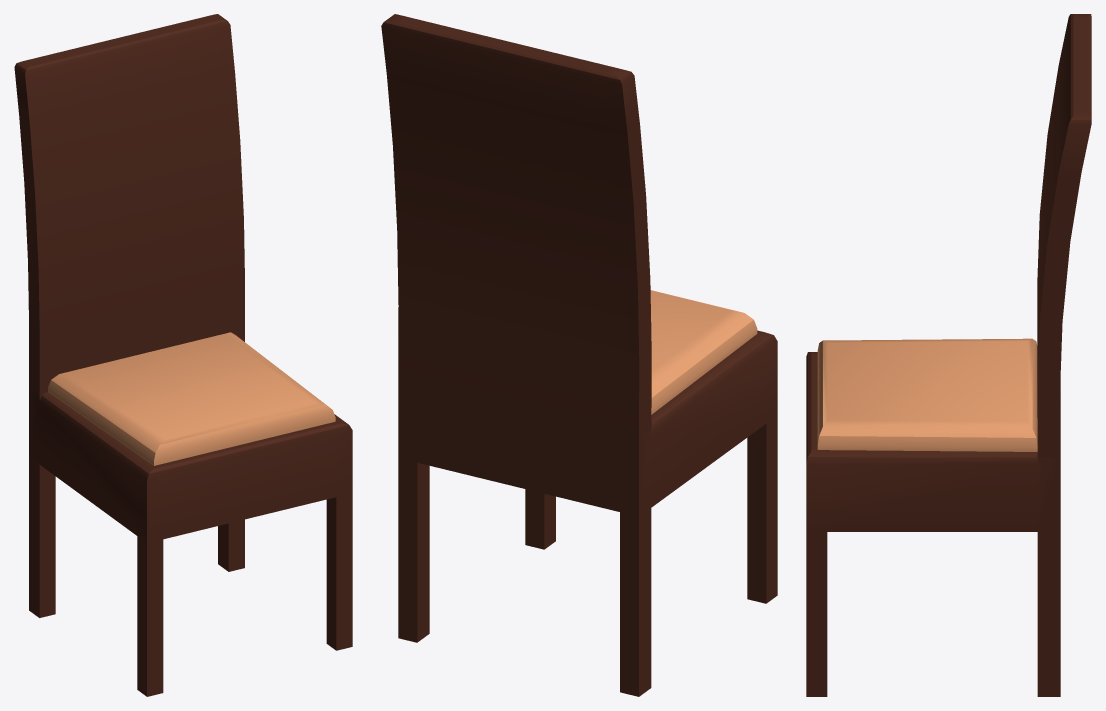
The model's file is GarChair.fbx.
3 renders of one model, left to right at view 1: azimuth 30°, elevation 25°; view 2: azimuth 150°, elevation 25°; view 3: azimuth 270°, elevation 25°, orthographic. The views are drawn at different scales.
Visible parts, largest first — view 1: Chair; view 2: Chair; view 3: Chair.
Boxes of the visible parts, left/top/right/bottom form: Chair: left=14, top=14, right=352, bottom=696; Chair: left=381, top=14, right=777, bottom=696; Chair: left=806, top=14, right=1091, bottom=696.
Size of the model in its own units: 49 by 123 by 54.83.
